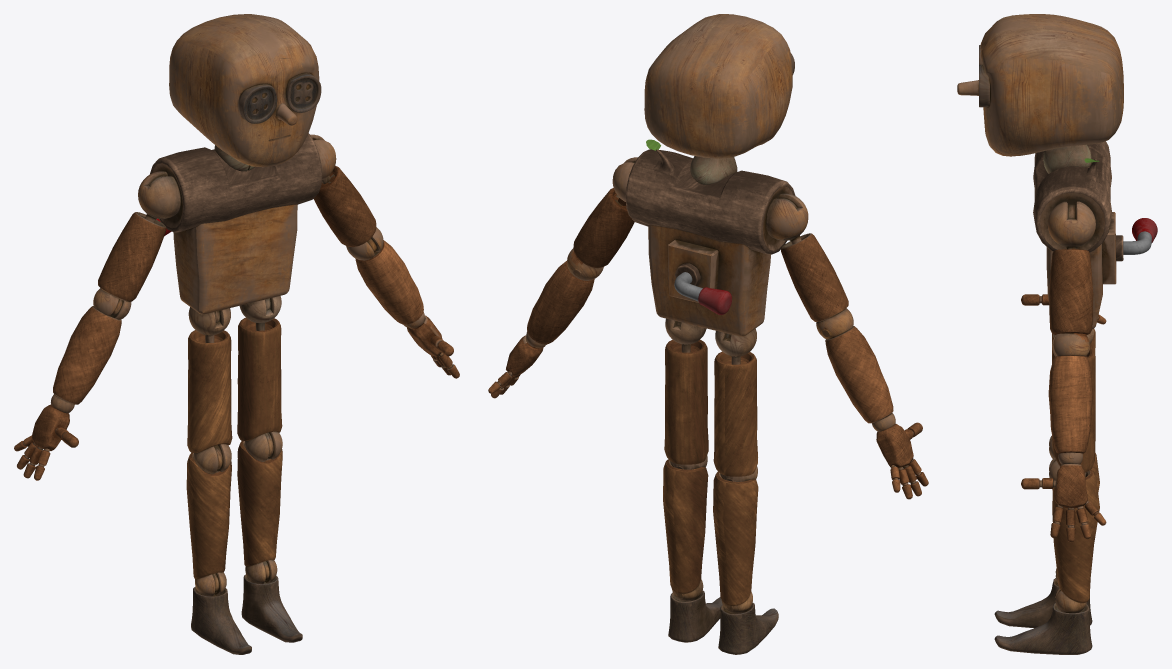
File: puppet.fbx
3 views of the same model, side by side, from view 1: azimuth 30°, elevation 25°; view 2: azimuth 150°, elevation 25°; view 3: azimuth 270°, elevation 25° (orthographic).
Parts seen in each view (by area): view 1: polySurface80; view 2: polySurface80; view 3: polySurface80.
Part boxes in pixels (x1,y1,x2,y2): polySurface80: [14, 14, 459, 654]; polySurface80: [488, 14, 928, 654]; polySurface80: [957, 14, 1157, 654].
Bounding box in the file's own units: 20.68 × 28.17 × 8.34.
